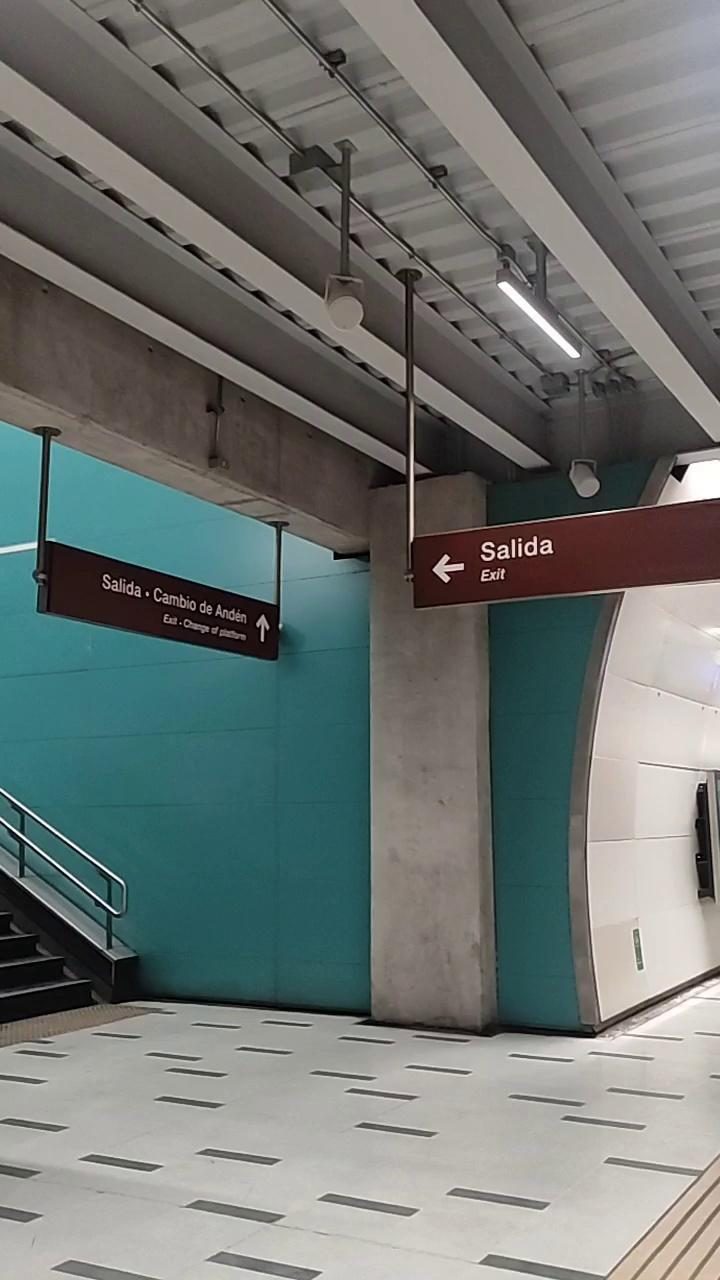left arrow: (430, 545, 469, 585)
up arrow: (254, 603, 272, 660)
